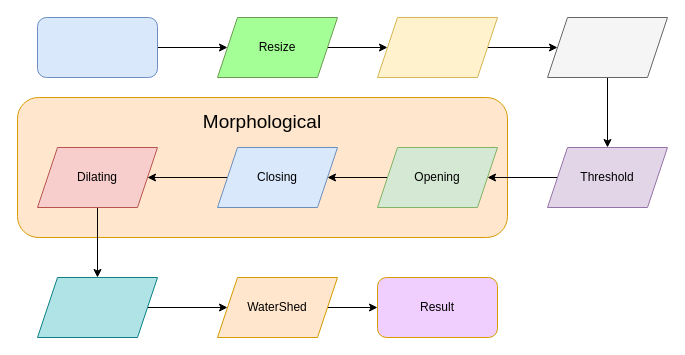
Some shapes in this 685 by 355 pixel diagram are drawn without their labels. The shapes that lost their labels are listed below. From the top down, each one's centre as x and y in pixels, then its label:
[97,47]: Original
[437,47]: HSV
[607,47]: Gray
[97,307]: Distance
